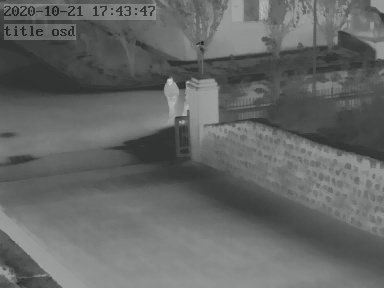person: (165, 75, 181, 121)
